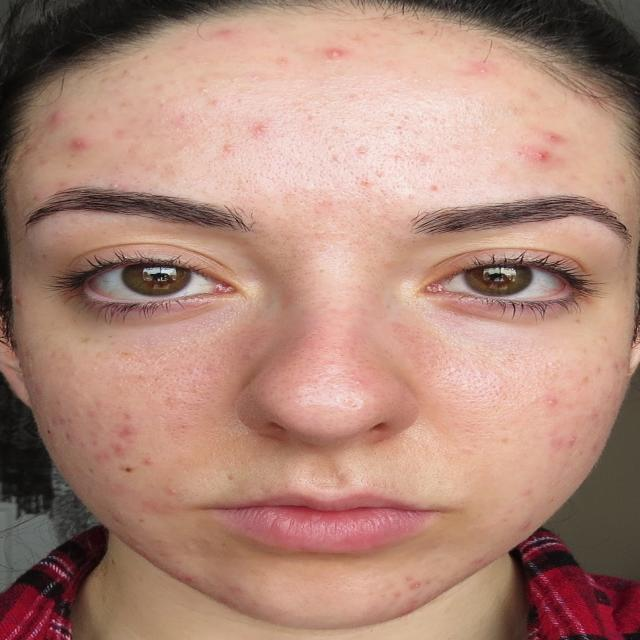Acne: (38, 388, 190, 499), (526, 350, 608, 480), (195, 108, 296, 156), (31, 101, 109, 160), (381, 556, 459, 614), (509, 126, 582, 183), (446, 47, 510, 95), (290, 33, 368, 72), (192, 18, 246, 47)
